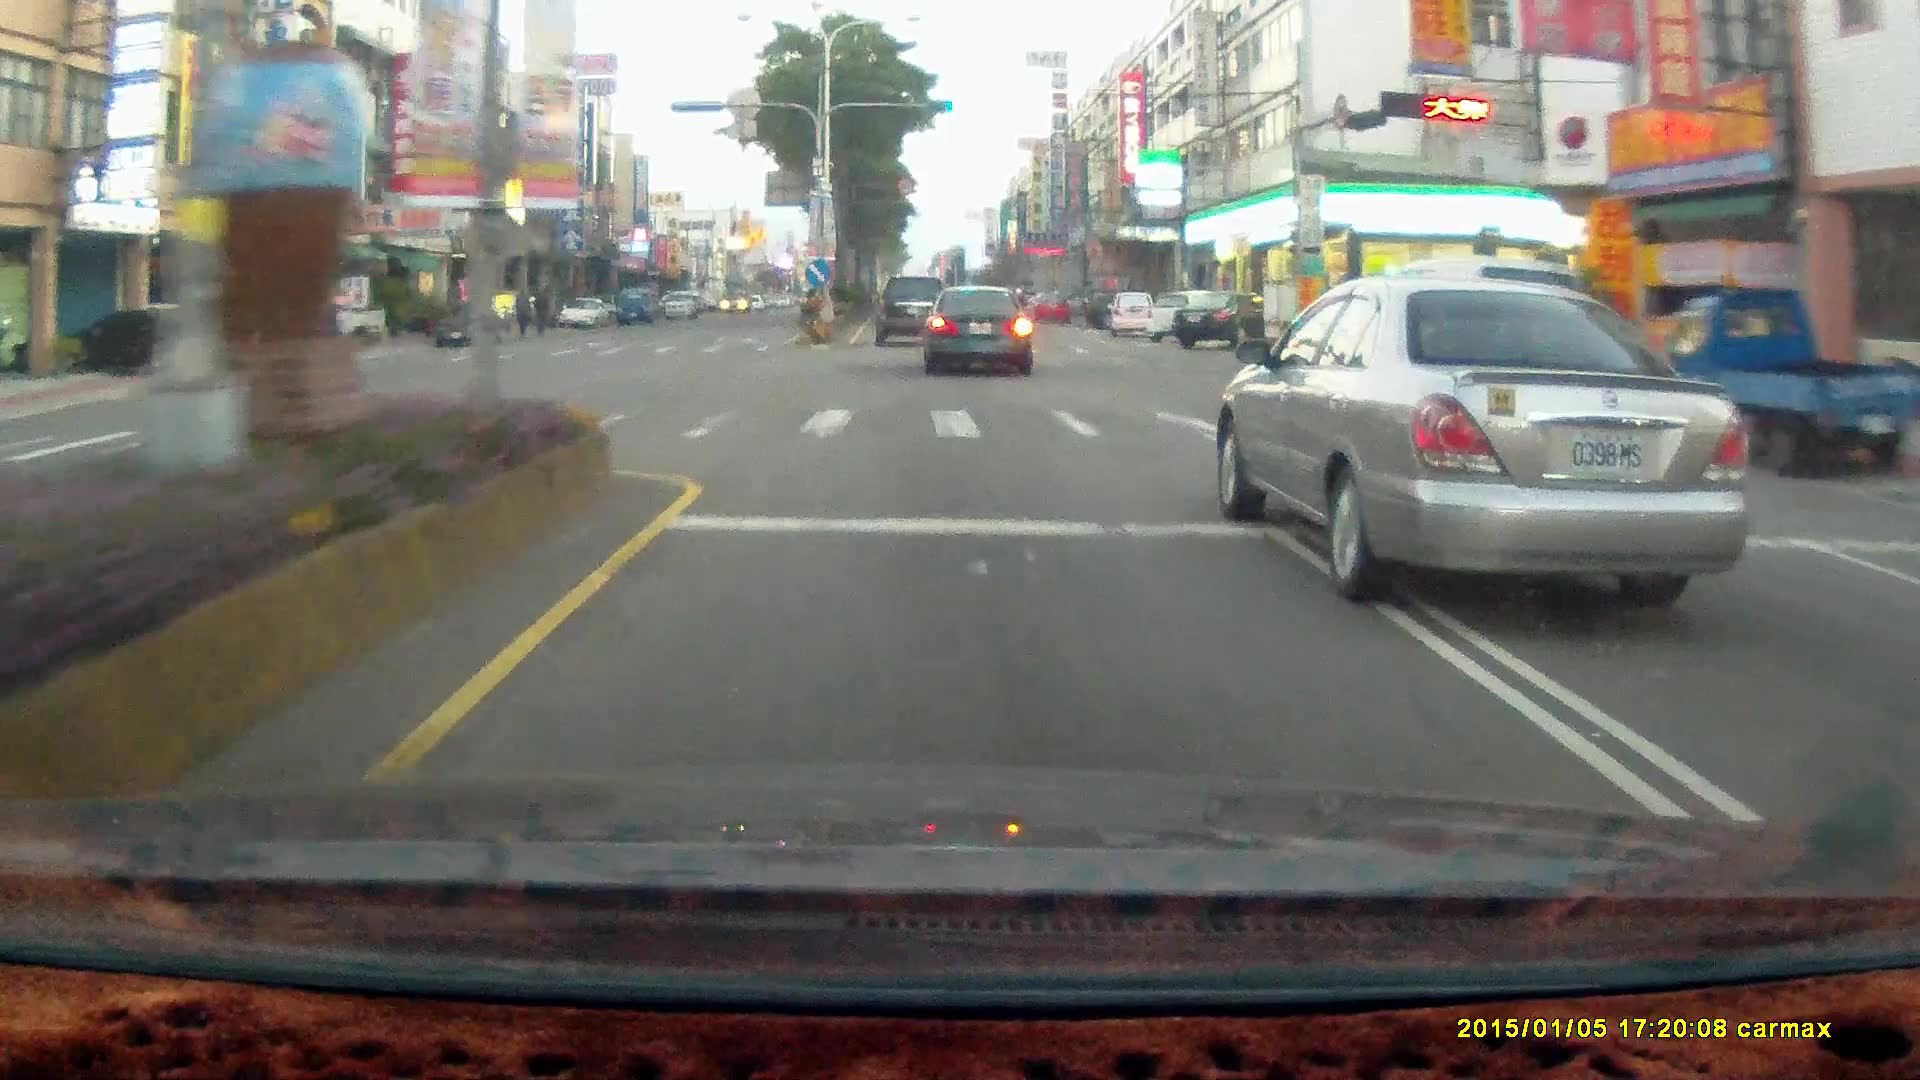pedestrian: (512, 288, 535, 338), (509, 288, 531, 339), (532, 285, 553, 336), (530, 285, 550, 337)
vehicle: (1214, 277, 1749, 596), (1665, 284, 1920, 484), (1665, 284, 1919, 483), (1343, 259, 1617, 438), (46, 307, 235, 373), (71, 302, 233, 374), (923, 286, 1034, 382), (921, 284, 1030, 377), (253, 292, 390, 363), (232, 291, 383, 355), (1170, 290, 1282, 349), (873, 275, 949, 350), (1173, 293, 1270, 350), (873, 275, 949, 346), (1143, 291, 1221, 344), (432, 304, 508, 353), (1108, 293, 1159, 343), (433, 307, 500, 346), (1077, 287, 1139, 328), (1101, 291, 1155, 338), (557, 298, 612, 331), (559, 295, 609, 327), (1027, 292, 1066, 324), (616, 290, 652, 323), (654, 290, 687, 316)
